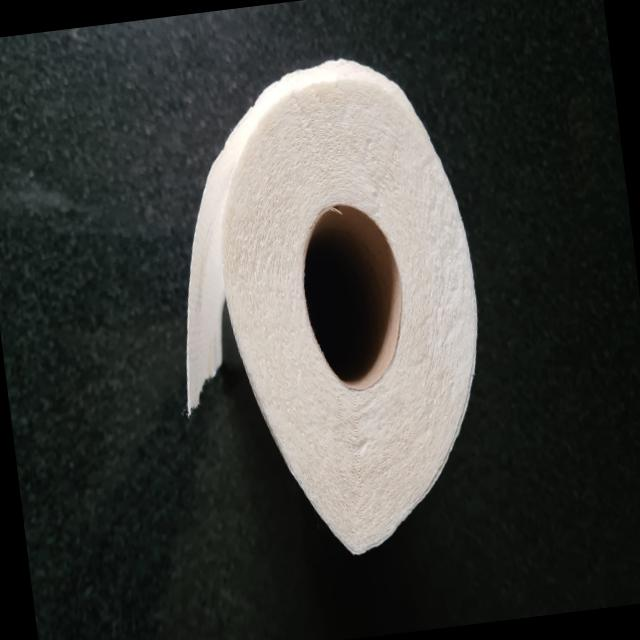organic waste: (143, 42, 513, 580), (146, 87, 304, 420)
